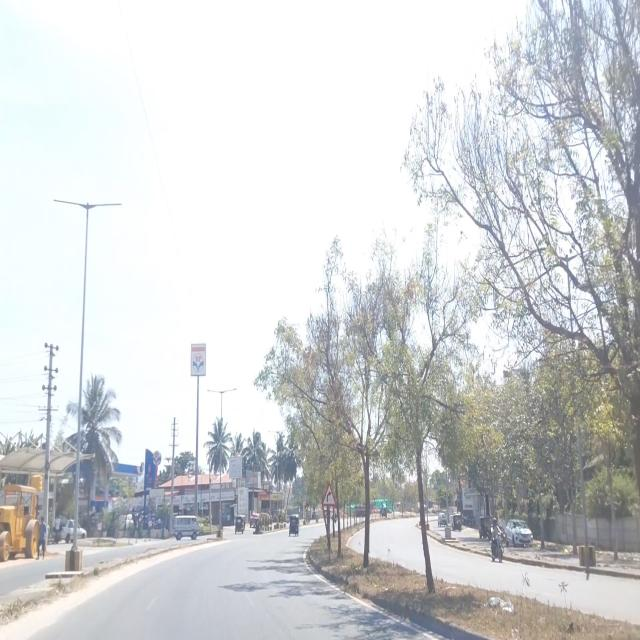bien_cam: (322, 484, 336, 507)
